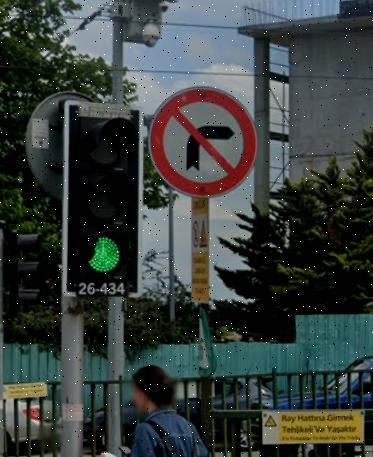greenlight: (68, 102, 136, 292)
rightturnsareforbidden: (154, 89, 256, 189)
